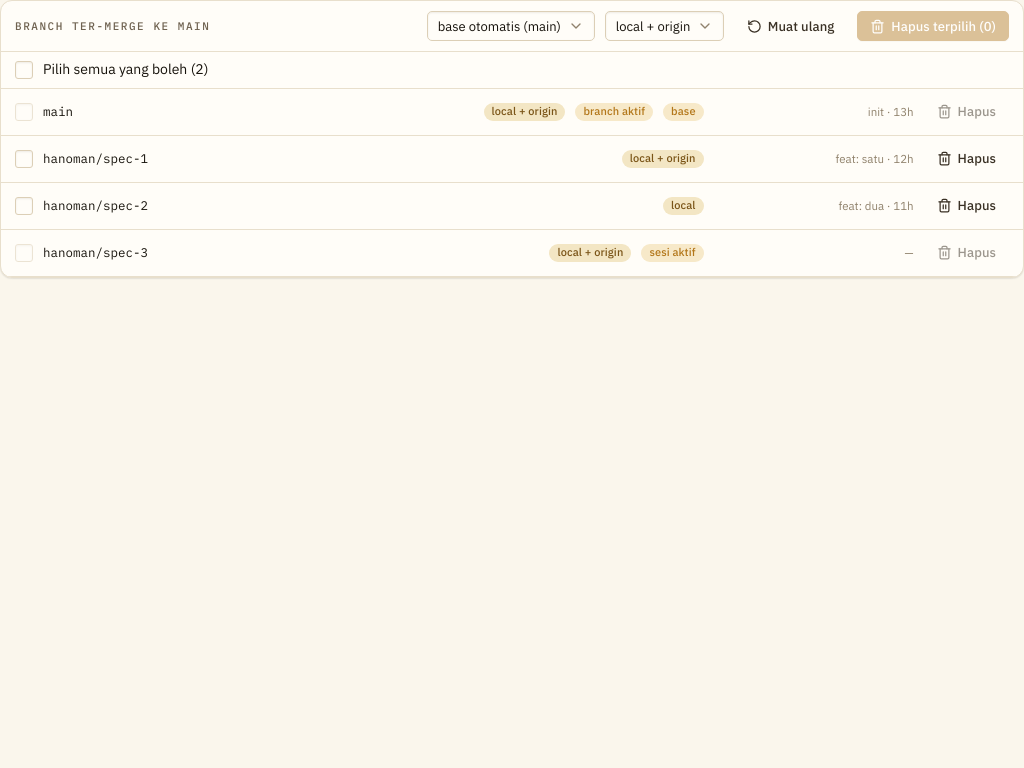
Scenario: BranchesPanel › hasil gagal ditampilkan apa adanya
expect the text "hanoman/spec-1" is shown: met, box [43,150,148,166]
Click the button with test id "row-delete-hanoman/spec-1": (966, 159) [924,144,1009,174]
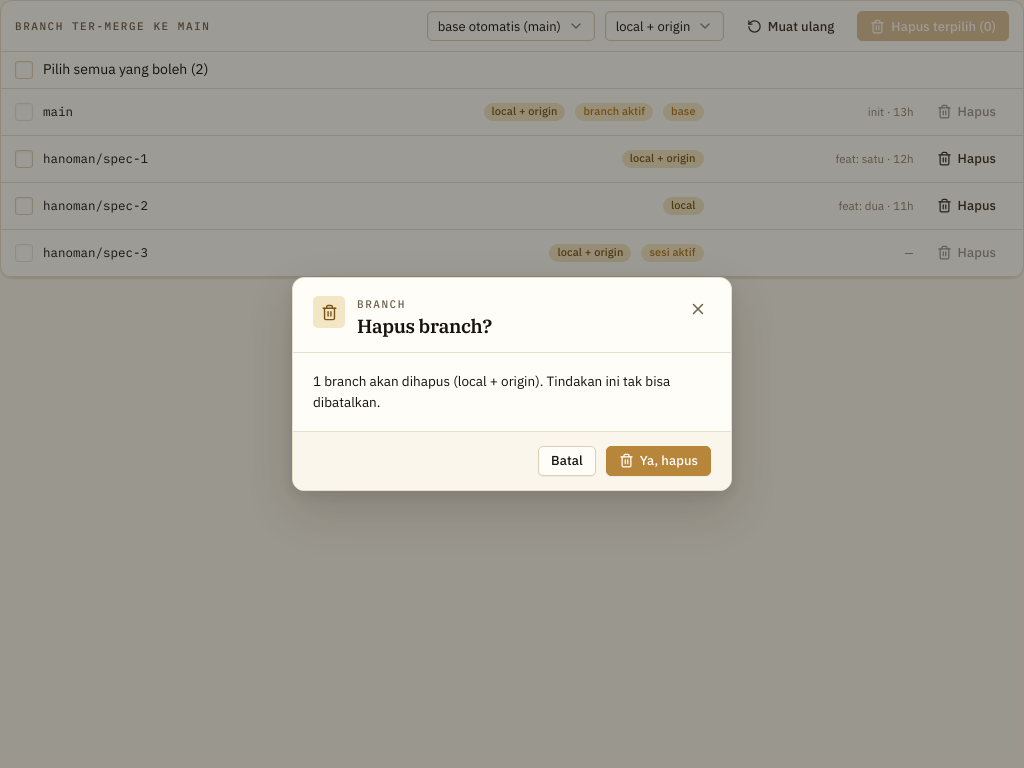
Click the button "Ya, hapus": (658, 461) [606,446,711,476]
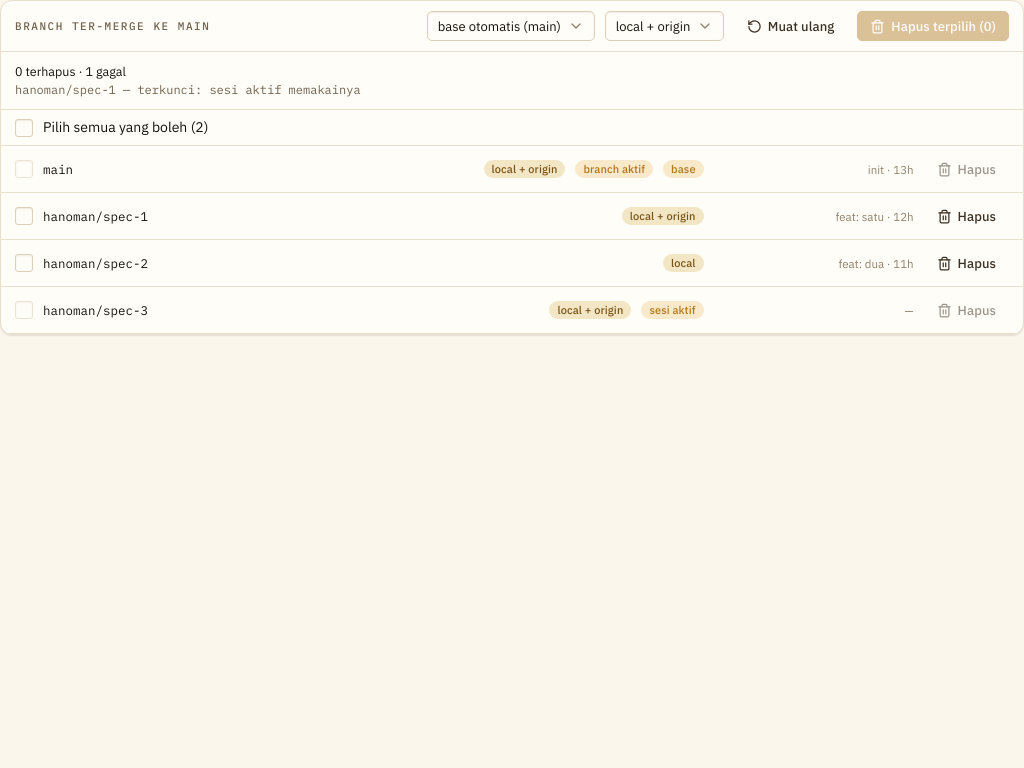
expect the text "hanoman/spec-1 — terkunci: sesi aktif memakainya" is shown: met, box [15,82,361,97]
